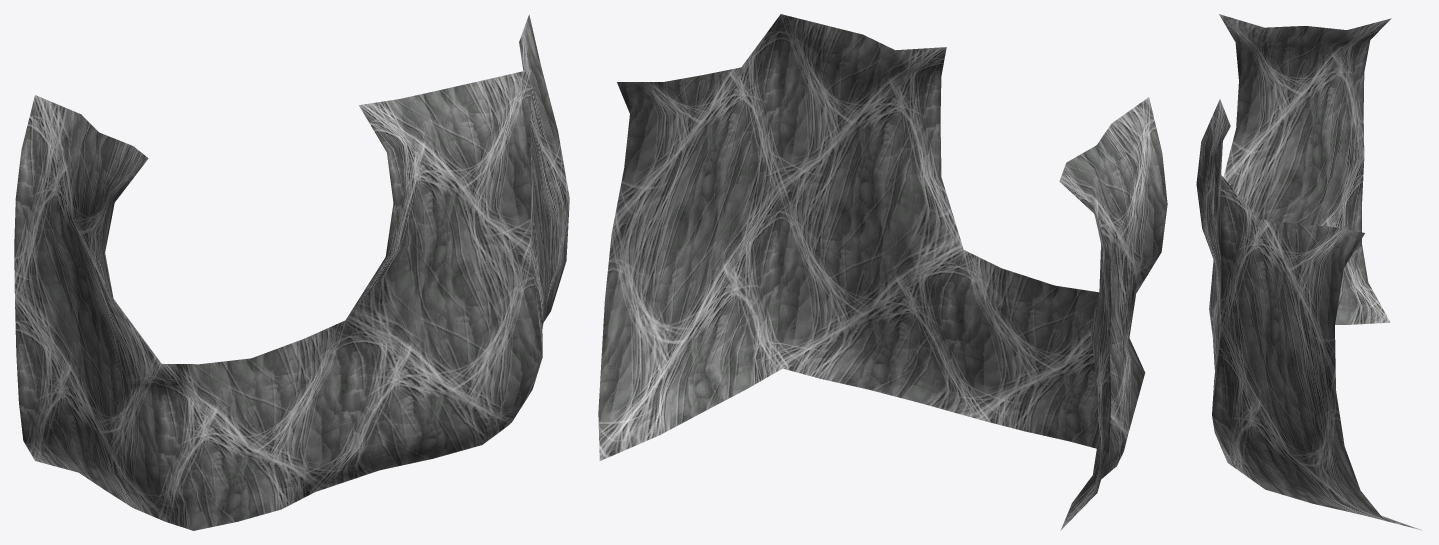
The model's file is SWORDLIGHT20_PS-AREA01_10.fbx.
The picture shows the model from 3 angles, left to right: view 1: azimuth 30°, elevation 25°; view 2: azimuth 150°, elevation 25°; view 3: azimuth 270°, elevation 25°; orthographic projection. The views are drawn at different scales.
Visible parts, largest first — view 1: SWORDLIGHT20_PS-AREA01_10; view 2: SWORDLIGHT20_PS-AREA01_10; view 3: SWORDLIGHT20_PS-AREA01_10.
Part boxes in pixels (box(x1,y1,x2,y2)): SWORDLIGHT20_PS-AREA01_10: box(14, 14, 569, 530); SWORDLIGHT20_PS-AREA01_10: box(598, 14, 1167, 530); SWORDLIGHT20_PS-AREA01_10: box(1196, 14, 1422, 530).
Bounding box in the file's own units: 128982 × 91513 × 56503.
Materials: 1 (1 with a texture image).
